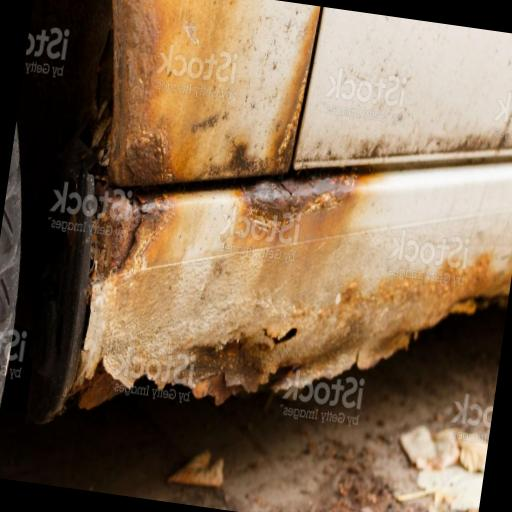segmentation: (74, 165, 512, 395), (109, 0, 320, 186), (92, 182, 143, 277)
